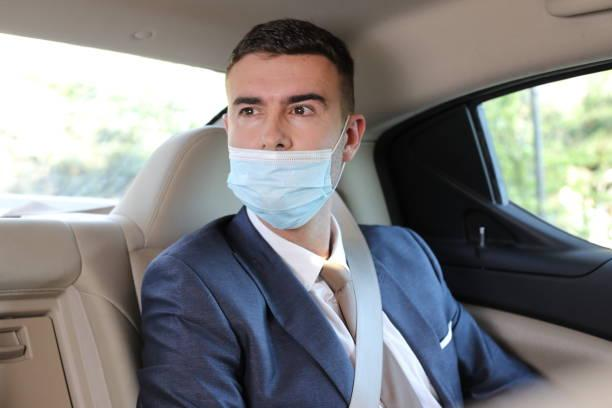mask_weared_incorrect: (224, 41, 347, 230)
